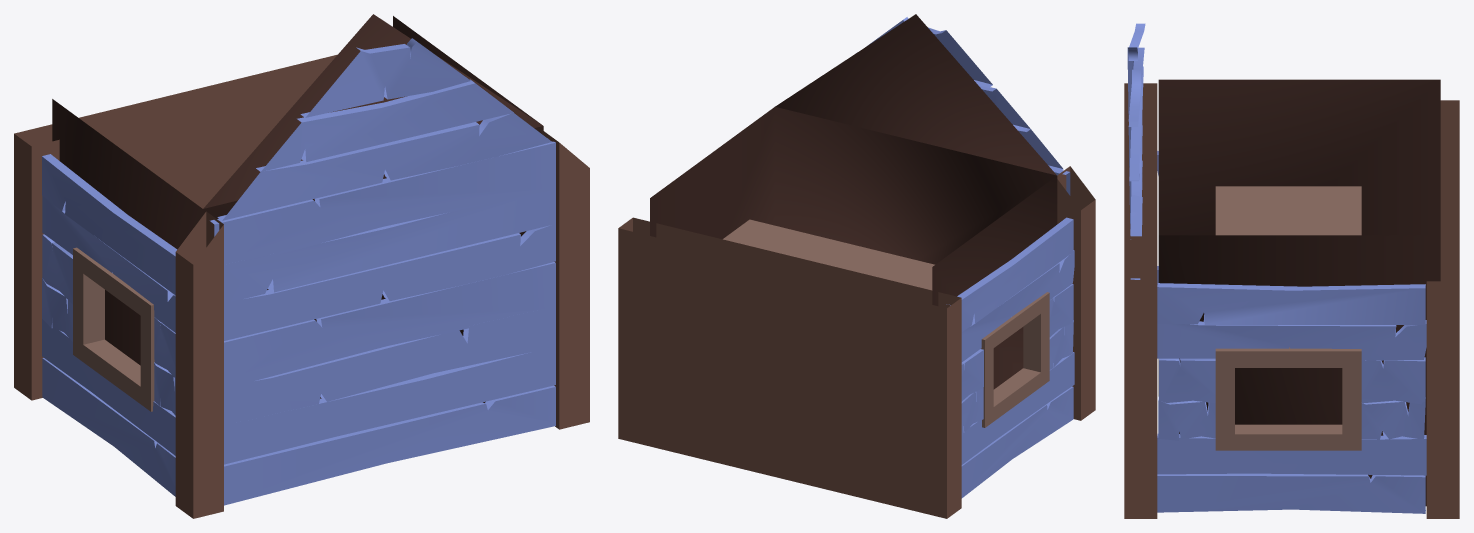
Rendered from Building_Wall_003.glb.
3 renders of one model, left to right at view 1: azimuth 30°, elevation 25°; view 2: azimuth 150°, elevation 25°; view 3: azimuth 270°, elevation 25°, orthographic. The views are drawn at different scales.
Parts seen in each view (by area): view 1: Building_Wall_003; view 2: Building_Wall_003; view 3: Building_Wall_003.
Boxes of the visible parts, x1,y1,x2,y2 form: Building_Wall_003: (14,14,589,518); Building_Wall_003: (618,14,1095,518); Building_Wall_003: (1124,23,1459,518).
Size of the model in its own units: 7.12 by 7.61 by 5.58.
Materials: 1 (1 with a texture image).
